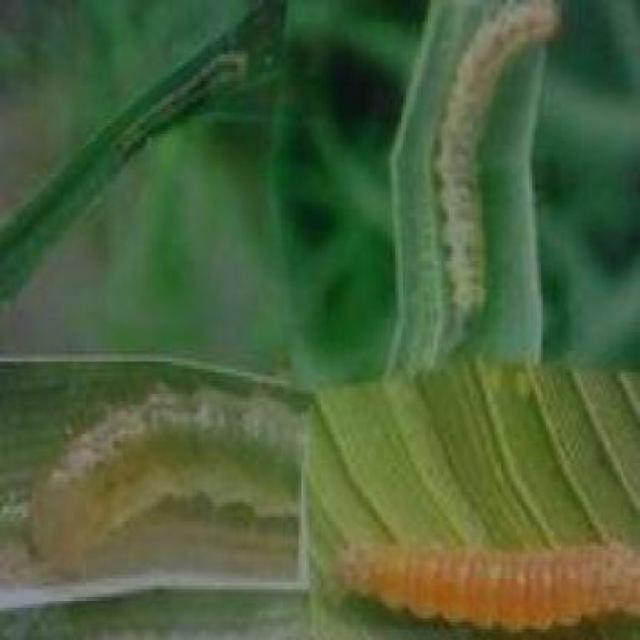leaf-folder: (8, 363, 343, 585), (72, 23, 260, 248), (358, 507, 639, 640), (418, 0, 518, 342)
